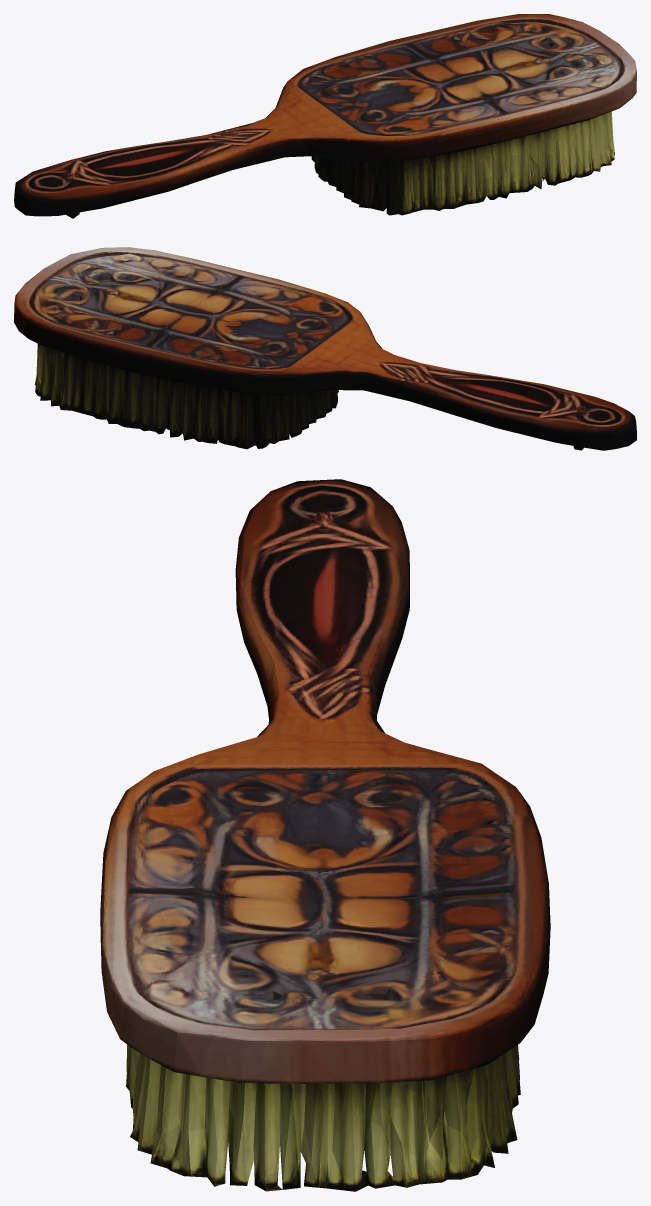
File: wooden-hairbrush-art-deco.jpeg.glb
The picture shows the model from 3 angles, top to bottom: view 1: azimuth 30°, elevation 25°; view 2: azimuth 150°, elevation 25°; view 3: azimuth 270°, elevation 25°; orthographic projection. The views are drawn at different scales.
Visible parts, largest first — view 1: world; view 2: world; view 3: world.
Part boxes in pixels (x1,y1,x2,y2): world: (14, 14, 636, 218); world: (14, 247, 636, 450); world: (100, 479, 550, 1191).
Bounding box in the file's own units: 0.9997 × 0.1403 × 0.3282.
1 material, 1 textured.
